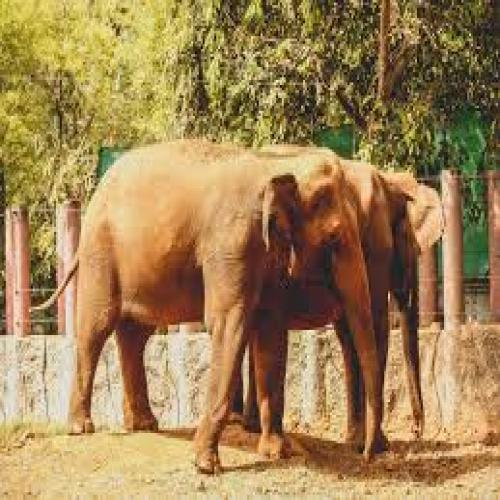asian_elephant-endangered: (29, 140, 384, 479), (286, 168, 453, 451)
